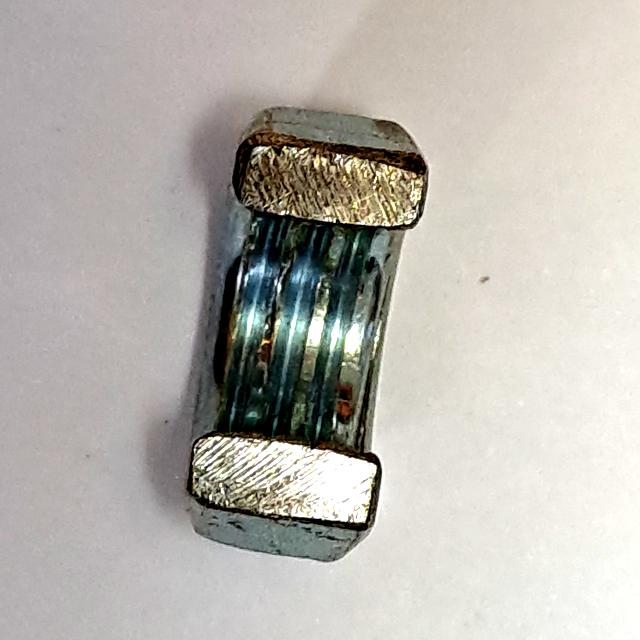Side-Fracture: (173, 91, 436, 578)
